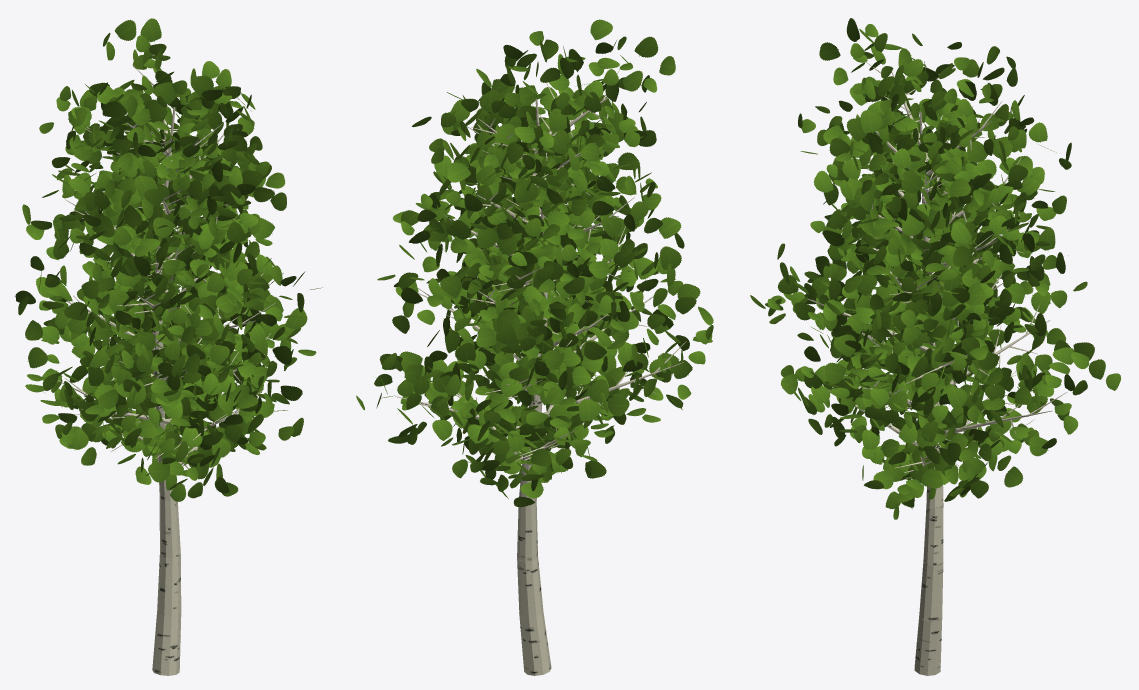
Rendered from Aspen_LOD0.fbx.
3 views of the same model, side by side, from view 1: azimuth 30°, elevation 25°; view 2: azimuth 150°, elevation 25°; view 3: azimuth 270°, elevation 25° (orthographic).
Visible parts, largest first — view 1: Aspen_LOD0; view 2: Aspen_LOD0; view 3: Aspen_LOD0.
Boxes of the visible parts, <box> form: Aspen_LOD0: <box>15,18,322,675</box>; Aspen_LOD0: <box>356,19,713,675</box>; Aspen_LOD0: <box>750,18,1121,675</box>.
Size of the model in its own units: 417 by 900 by 491.
Materials: 2 (2 with a texture image).
